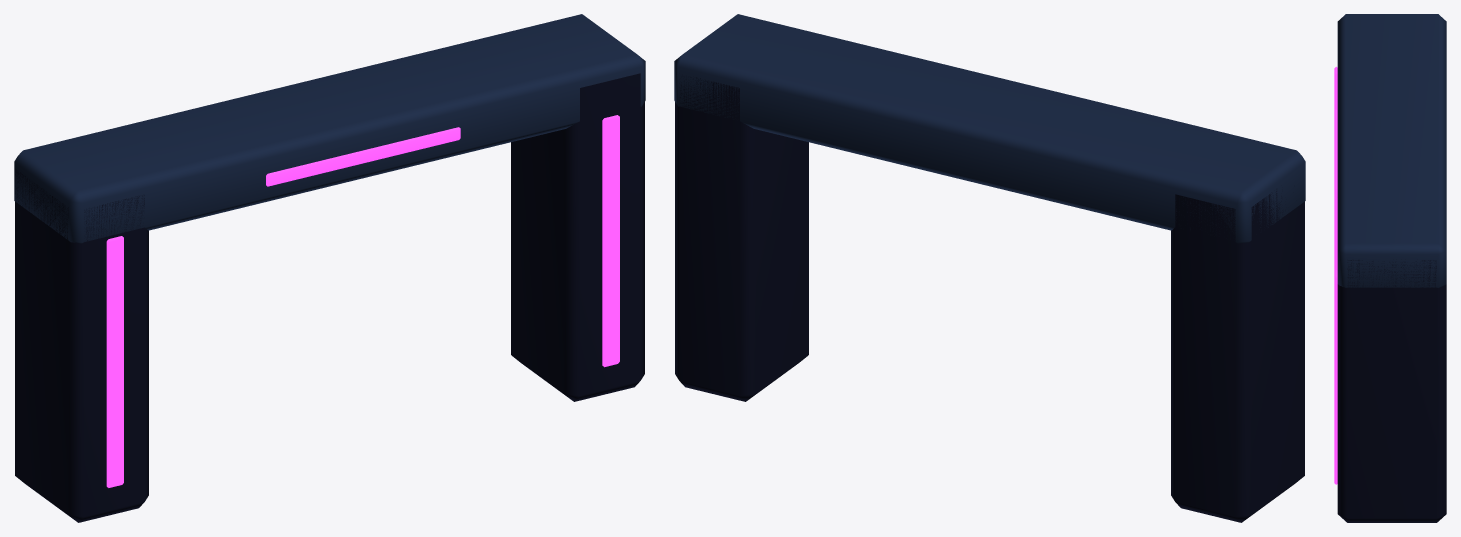
File: NT_Gate_Open.fbx
3 renders of one model, left to right at view 1: azimuth 30°, elevation 25°; view 2: azimuth 150°, elevation 25°; view 3: azimuth 270°, elevation 25°, orthographic. The views are drawn at different scales.
Parts seen in each view (by area): view 1: NT_Gate_Open__WallMesh; view 2: NT_Gate_Open__WallMesh; view 3: NT_Gate_Open__WallMesh.
Part boxes in pixels (<box>): NT_Gate_Open__WallMesh: <box>14,14,645,522</box>; NT_Gate_Open__WallMesh: <box>674,14,1305,522</box>; NT_Gate_Open__WallMesh: <box>1334,14,1446,522</box>.
Size of the model in its own units: 4 by 2.21 by 0.804.
